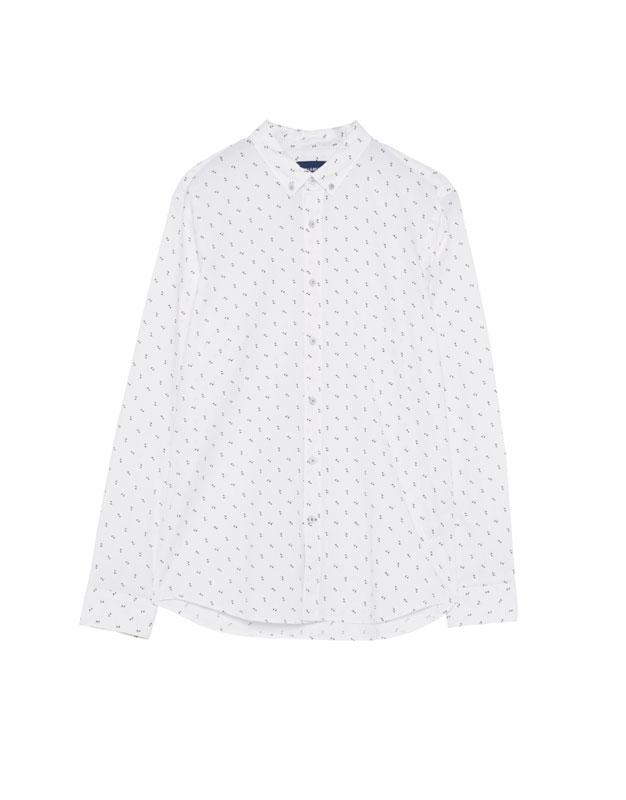teeshirt: (74, 119, 527, 661)
